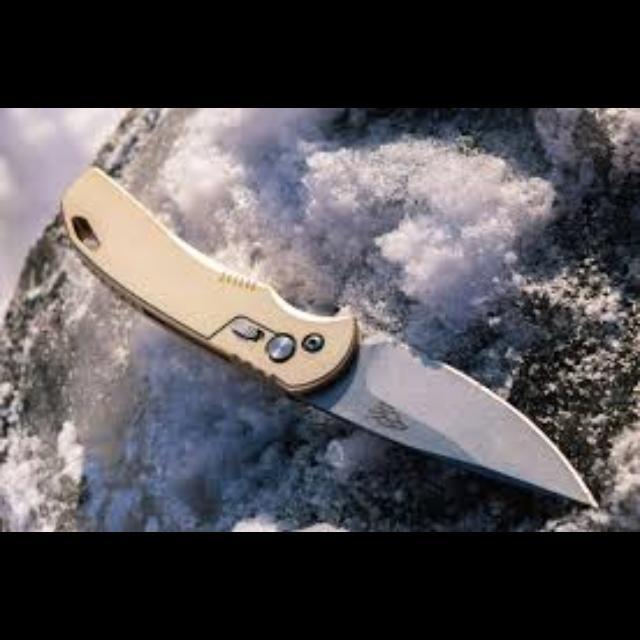Knife: (60, 164, 598, 508)
